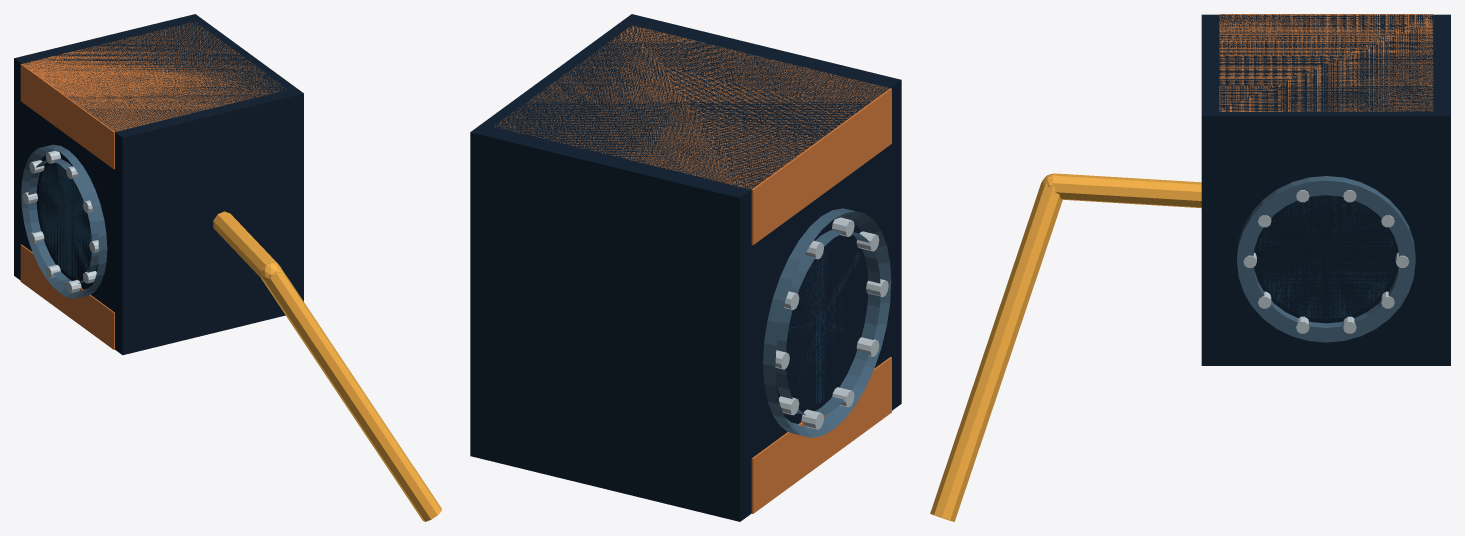
File: 12_L75_NeutralParticleSeparationModule.fbx
3 renders of one model, left to right at view 1: azimuth 30°, elevation 25°; view 2: azimuth 150°, elevation 25°; view 3: azimuth 270°, elevation 25°, orthographic. The views are drawn at different scales.
Parts seen in each view (by area): view 1: NeutralParticleSeparationModule; view 2: NeutralParticleSeparationModule; view 3: NeutralParticleSeparationModule.
Boxes of the visible parts, x1,y1,x2,y2 form: NeutralParticleSeparationModule: (14,14,441,521); NeutralParticleSeparationModule: (470,14,901,521); NeutralParticleSeparationModule: (930,14,1450,521).
Bounding box in the file's own units: 97.25 × 150 × 178.
